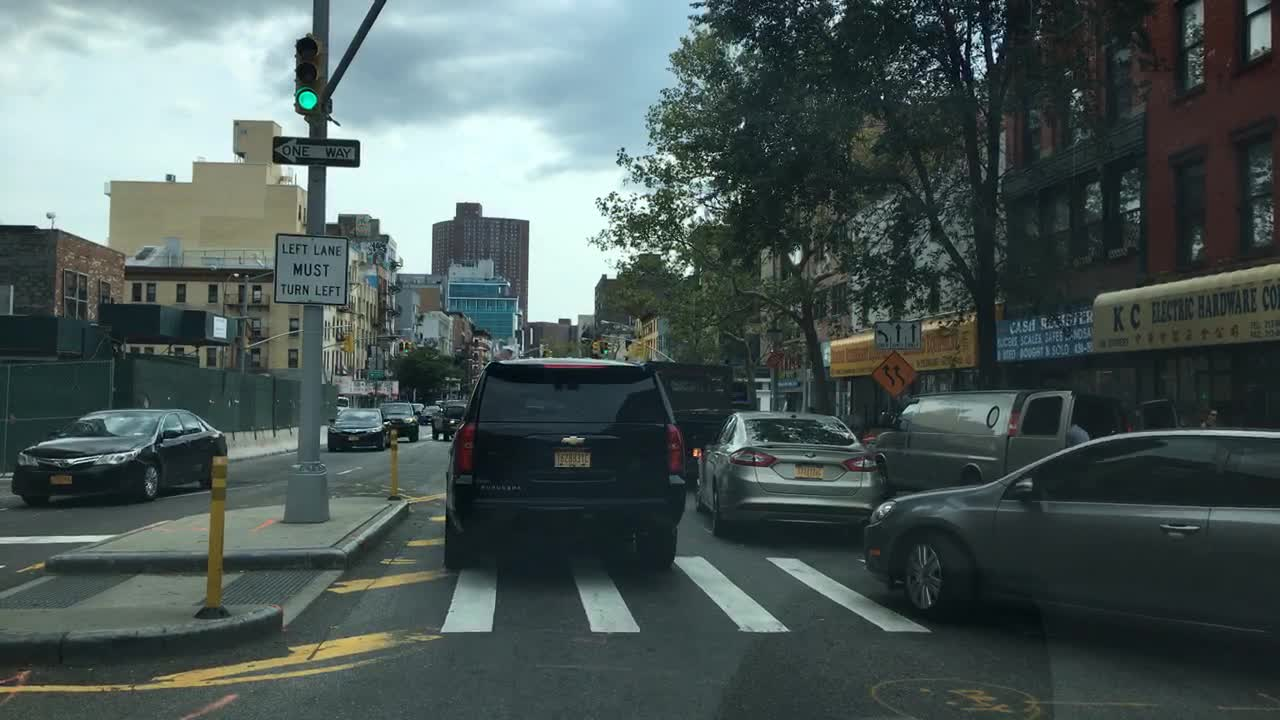car: (860, 414, 1271, 660), (869, 386, 1181, 520), (695, 405, 890, 555), (9, 403, 227, 505), (325, 408, 394, 454), (427, 396, 479, 440), (374, 399, 422, 440), (420, 397, 442, 423)
person: (1060, 412, 1099, 462), (1192, 406, 1229, 443)
traffic light: (286, 30, 332, 122), (332, 330, 356, 353), (585, 337, 603, 357), (598, 335, 614, 353), (402, 340, 413, 357), (397, 342, 404, 358)
traffic sign: (270, 231, 357, 306), (270, 135, 362, 166), (868, 350, 920, 399), (870, 315, 923, 348), (361, 366, 387, 382)
truck: (438, 353, 693, 575), (640, 353, 754, 491)
